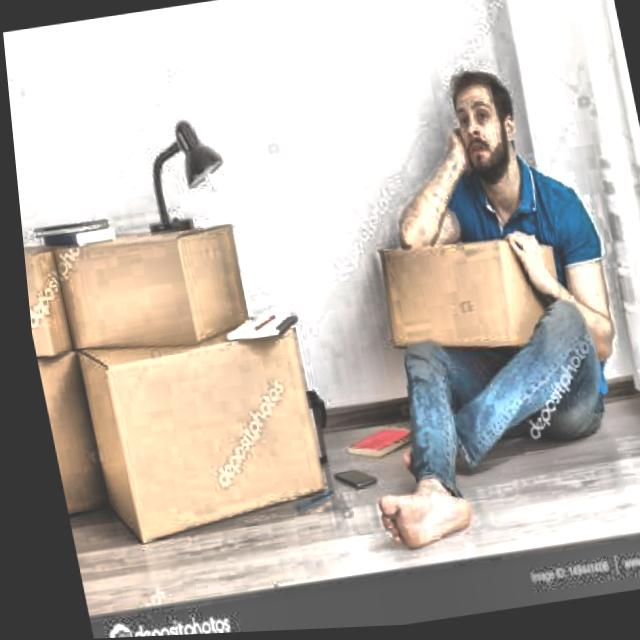Cardbox: (56, 286, 336, 563), (40, 195, 262, 368), (356, 213, 571, 388)
